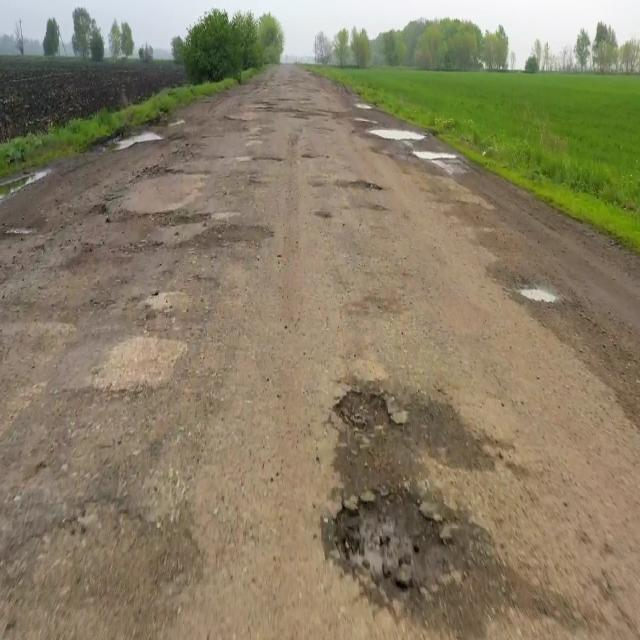Pothole: (313, 352, 496, 640), (362, 88, 496, 212), (110, 105, 198, 156)
